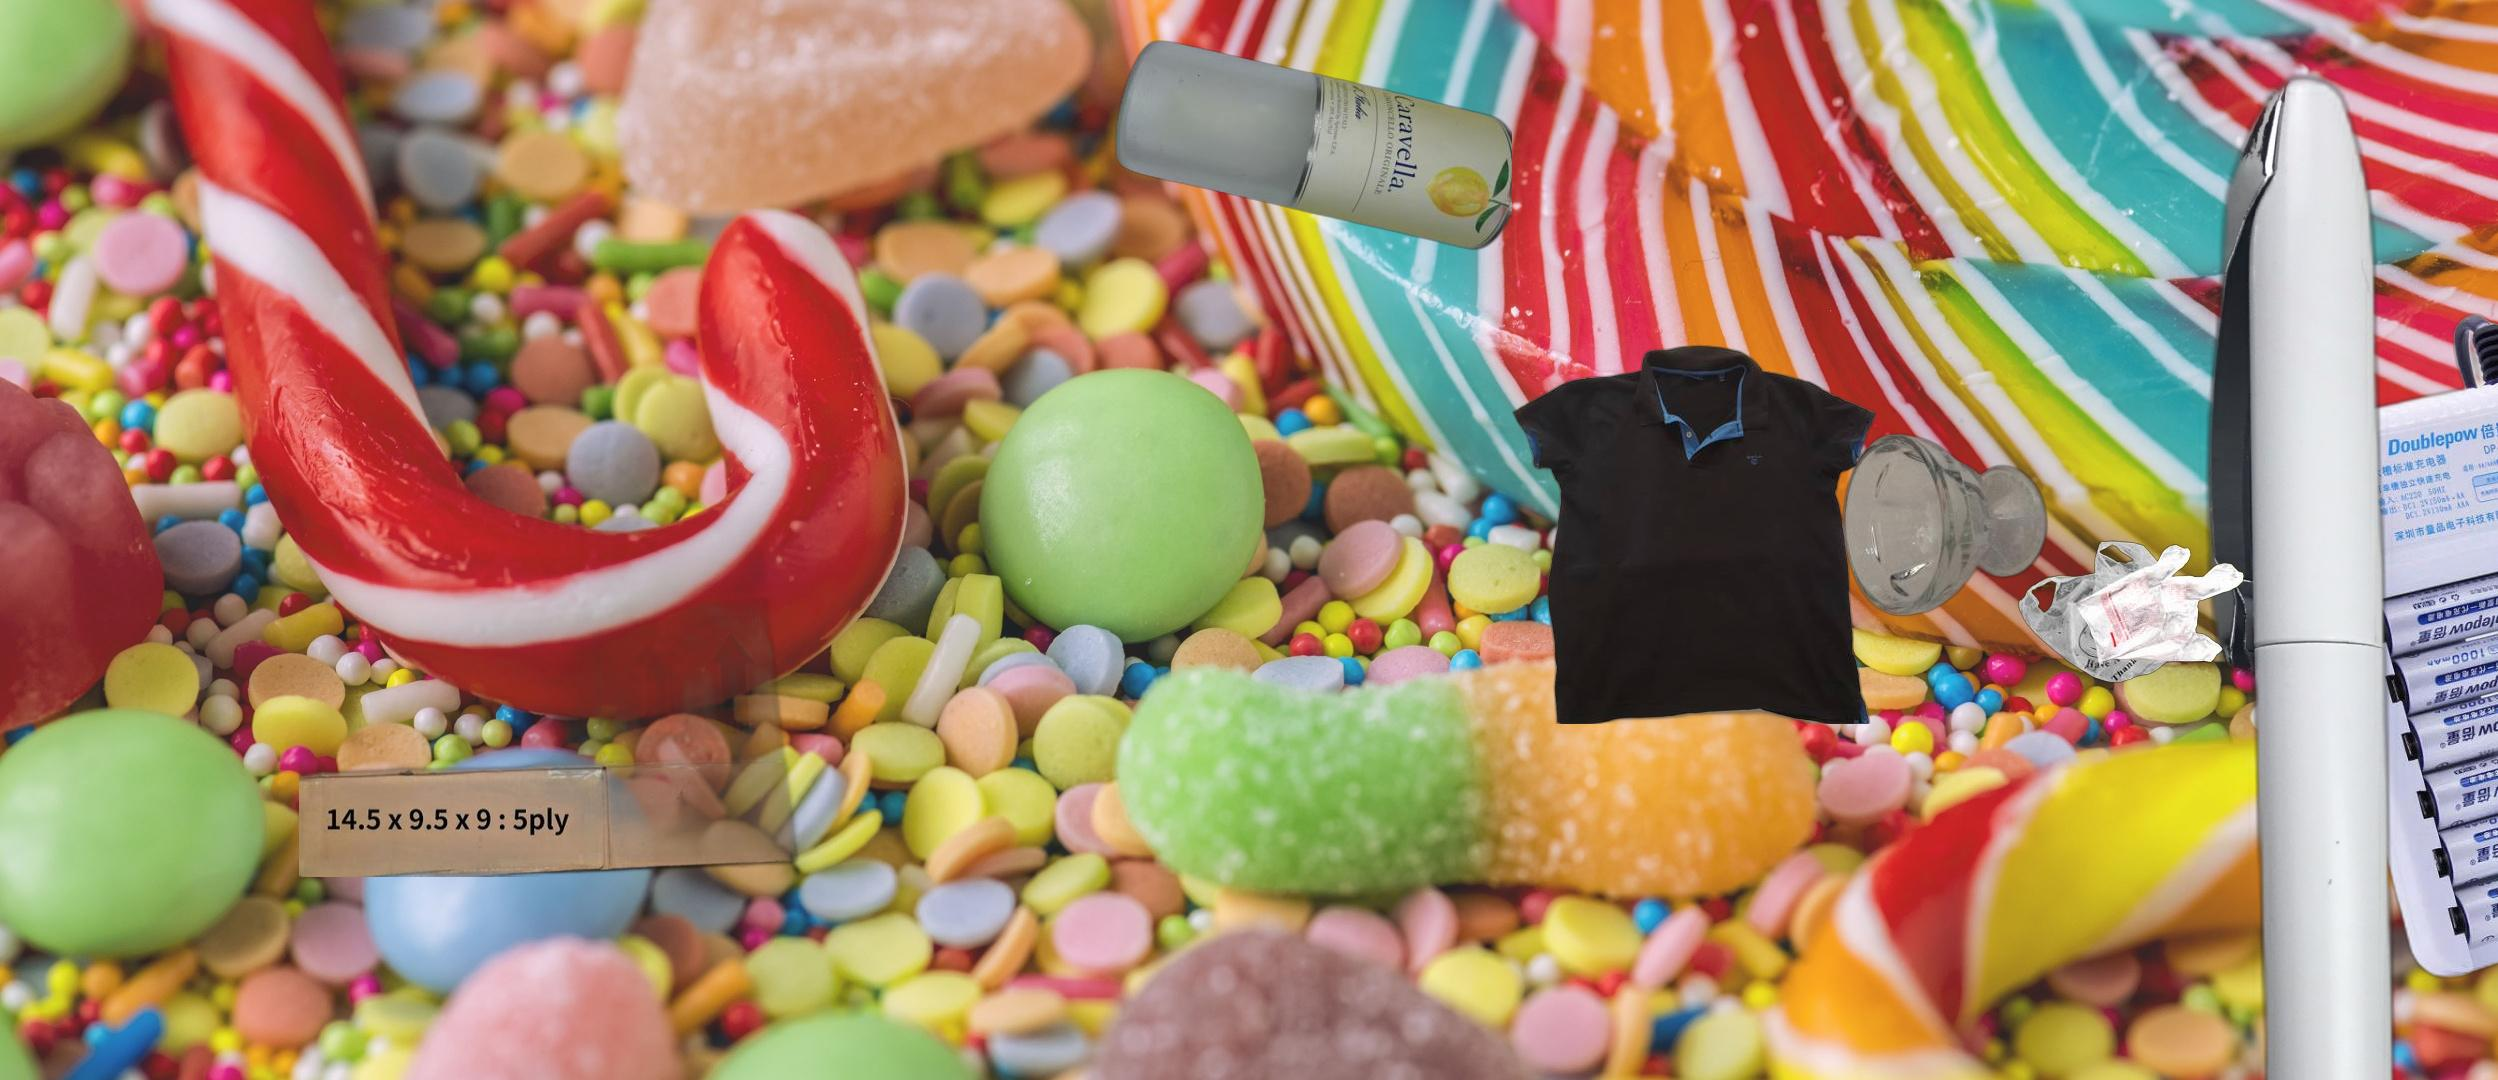battery: (2273, 307, 2498, 984)
clothes: (1510, 342, 1878, 725)
glass: (1110, 37, 1512, 252), (1838, 432, 2050, 618)
penholder: (2194, 22, 2498, 1080)
plastic-bag: (2015, 538, 2245, 683)
trashbox-cardboard: (300, 502, 800, 878)
